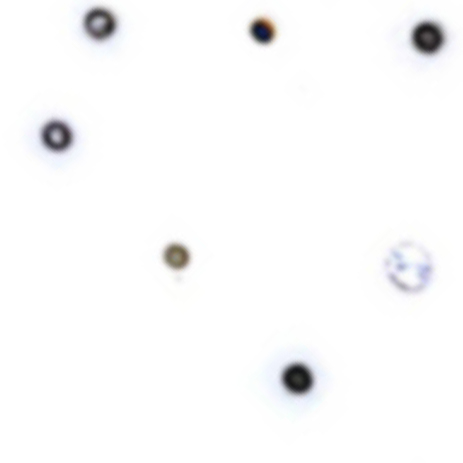abnormal: (357, 226, 447, 310)
cancer: (256, 334, 337, 419), (379, 6, 459, 79), (26, 103, 100, 169), (72, 6, 134, 57)
normal: (156, 231, 211, 285), (229, 14, 289, 62)
